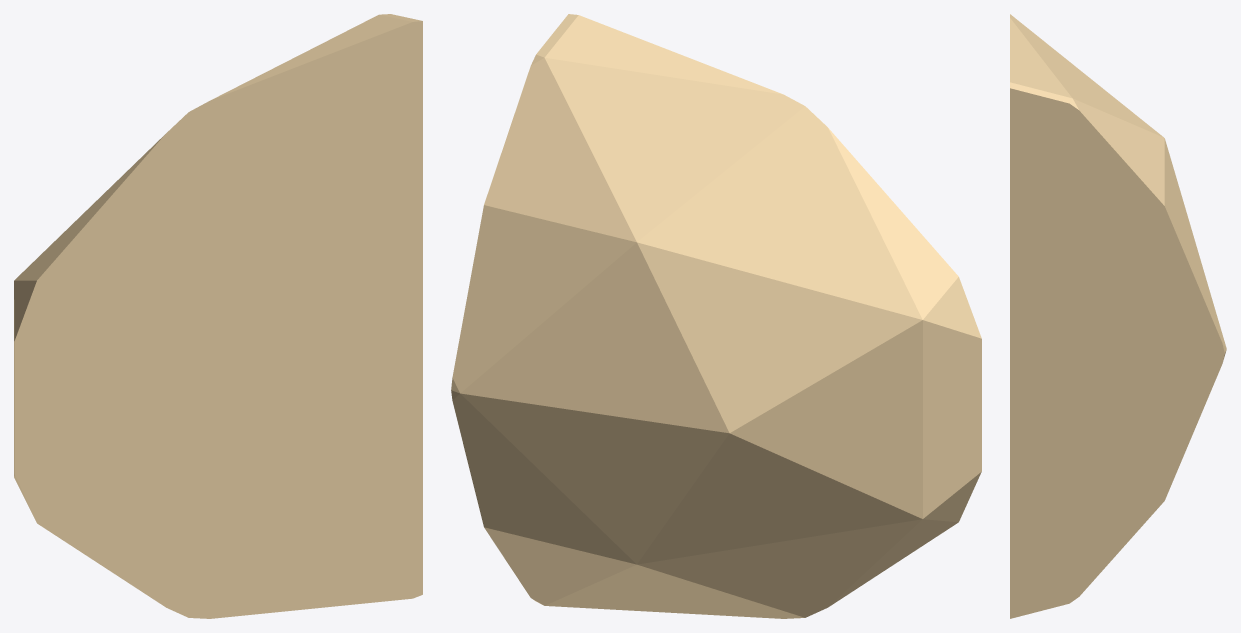
The model's file is nil_link_mesh.dae.
3 renders of one model, left to right at view 1: azimuth 30°, elevation 25°; view 2: azimuth 150°, elevation 25°; view 3: azimuth 270°, elevation 25°, orthographic. The views are drawn at different scales.
Parts seen in each view (by area): view 1: nil_link; view 2: nil_link; view 3: nil_link.
Part boxes in pixels (x1,y1,x2,y2): nil_link: [14, 14, 422, 618]; nil_link: [451, 14, 981, 618]; nil_link: [1010, 14, 1226, 618].
Bounding box in the file's own units: 0.0403 × 0.0543 × 0.02.
